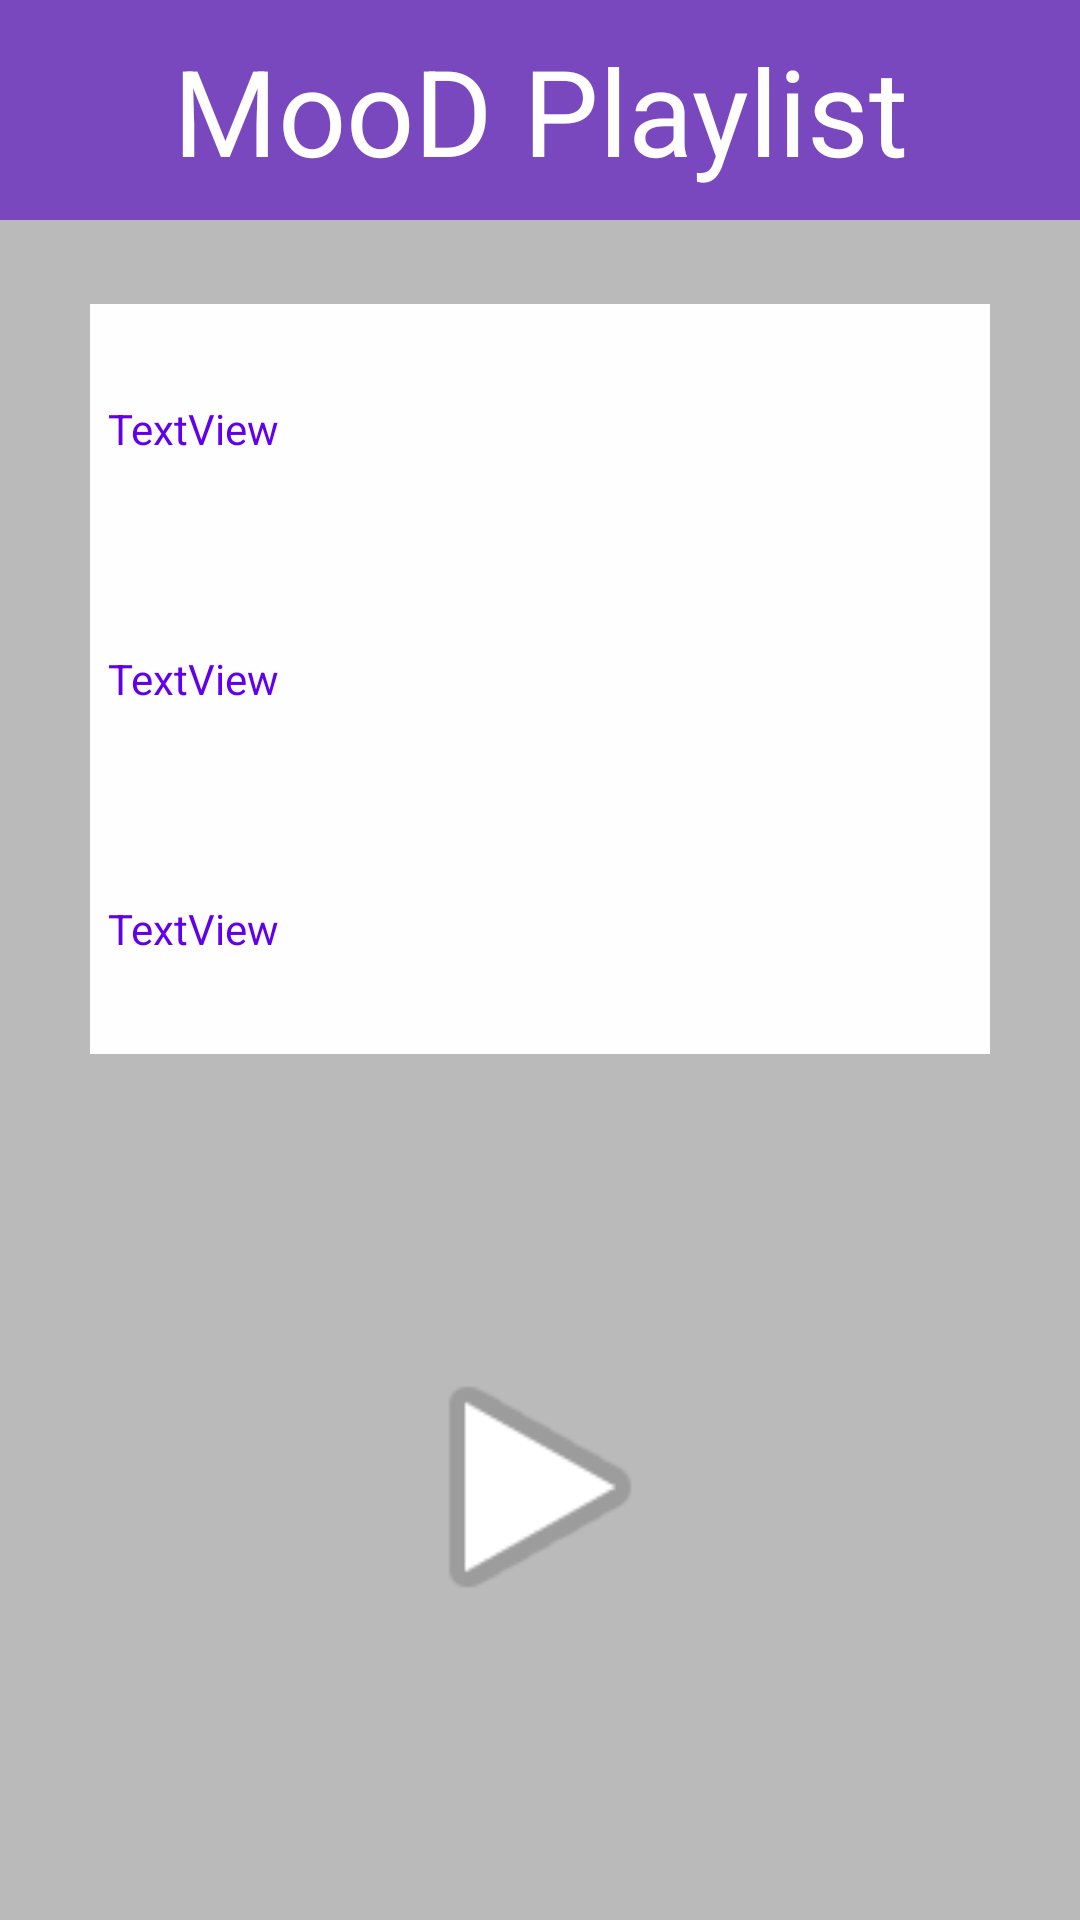

Where to tap for icons on this 1080px×1920px app screen, as point (x, y):
play: point (540, 1487)
